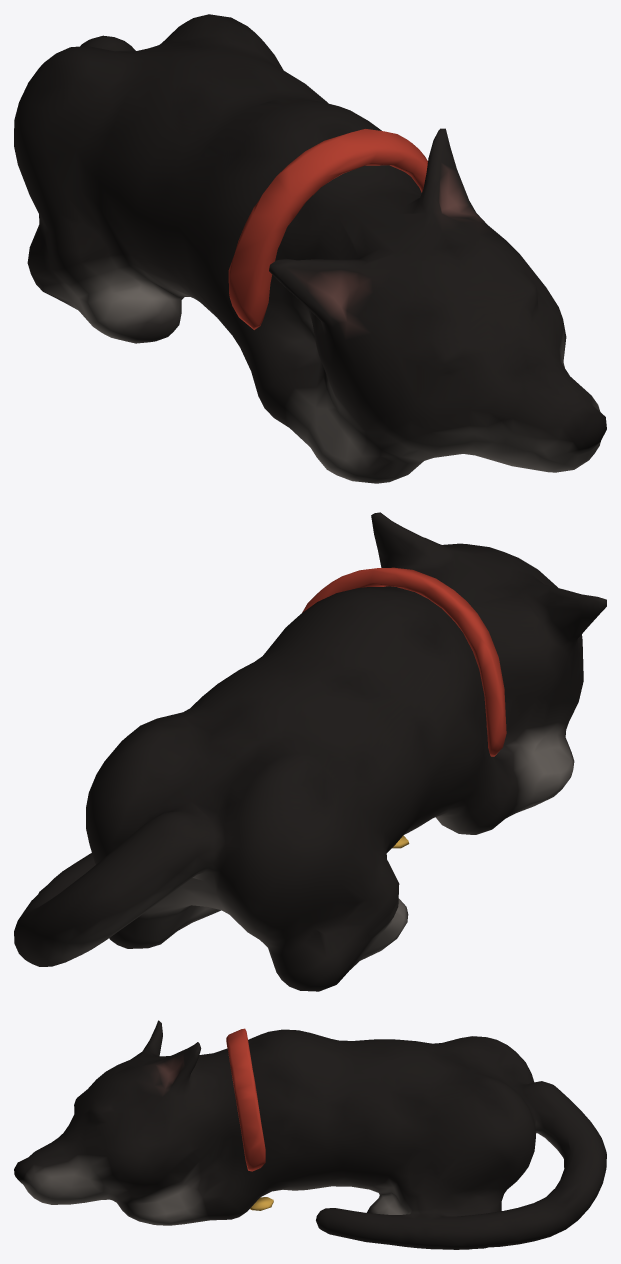
Rendered from cho_muc_ngu_gat.glb.
3 views of the same model, one above another, from view 1: azimuth 30°, elevation 25°; view 2: azimuth 150°, elevation 25°; view 3: azimuth 270°, elevation 25° (orthographic). The views are drawn at different scales.
Parts seen in each view (by area): view 1: cho_muc_ngu_gat; view 2: cho_muc_ngu_gat; view 3: cho_muc_ngu_gat.
Boxes of the visible parts, <box> form: cho_muc_ngu_gat: <box>14,14,606,483</box>; cho_muc_ngu_gat: <box>14,512,606,991</box>; cho_muc_ngu_gat: <box>14,1020,606,1249</box>.
Bounding box in the file's own units: 0.4689 × 0.4064 × 1.19.
